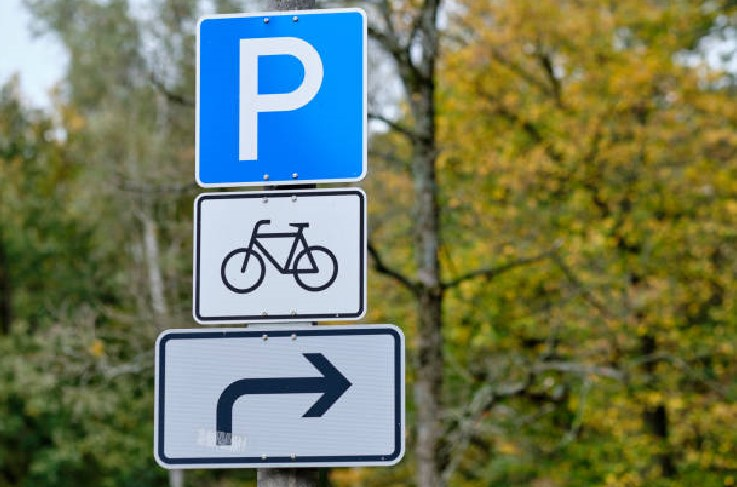Parking: (187, 5, 372, 190)
